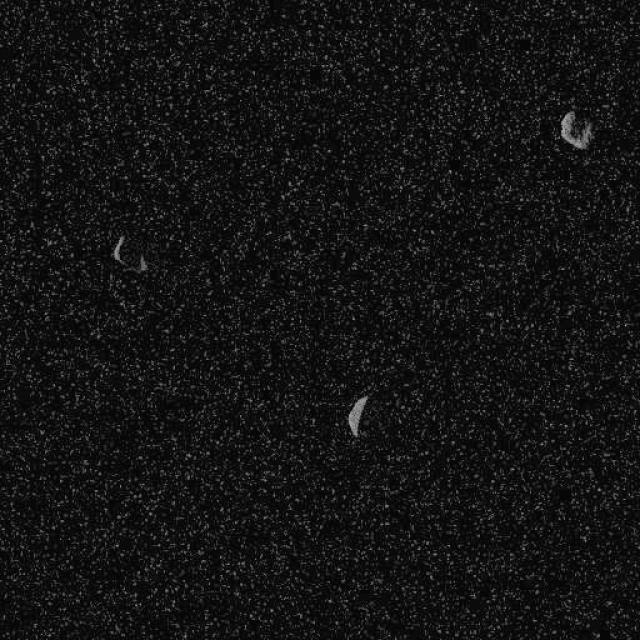D2: (110, 232, 148, 274), (558, 109, 594, 150), (345, 393, 367, 438)
